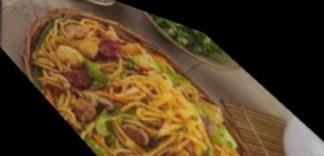pancit bihon: (39, 18, 239, 155)
